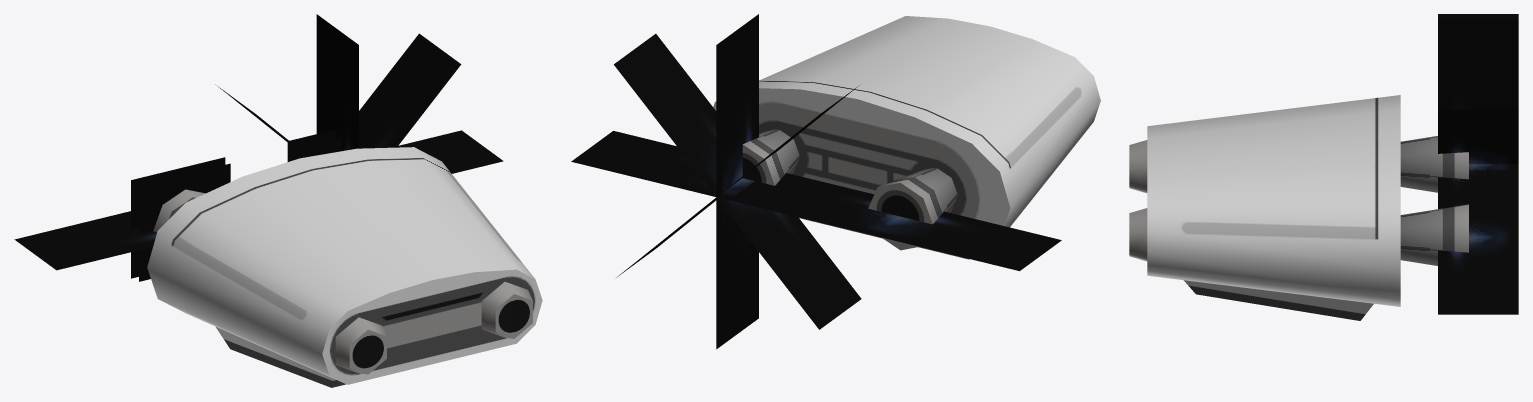
Rendered from logistic-drone.glb.
3 views of the same model, side by side, from view 1: azimuth 30°, elevation 25°; view 2: azimuth 150°, elevation 25°; view 3: azimuth 270°, elevation 25° (orthographic). The views are drawn at different scales.
Parts seen in each view (by area): view 1: logistic-drone, logistic-drone-1; view 2: logistic-drone, logistic-drone-1; view 3: logistic-drone, logistic-drone-1.
Boxes of the visible parts, x1,y1,x2,y2 form: logistic-drone: [147, 147, 542, 387]; logistic-drone-1: [14, 14, 503, 281]; logistic-drone: [713, 16, 1100, 259]; logistic-drone-1: [571, 14, 1061, 349]; logistic-drone: [1129, 95, 1468, 320]; logistic-drone-1: [1438, 14, 1518, 314].
Size of the model in its own units: 4.46 by 2.89 by 3.52.
2 materials, 2 textured.
